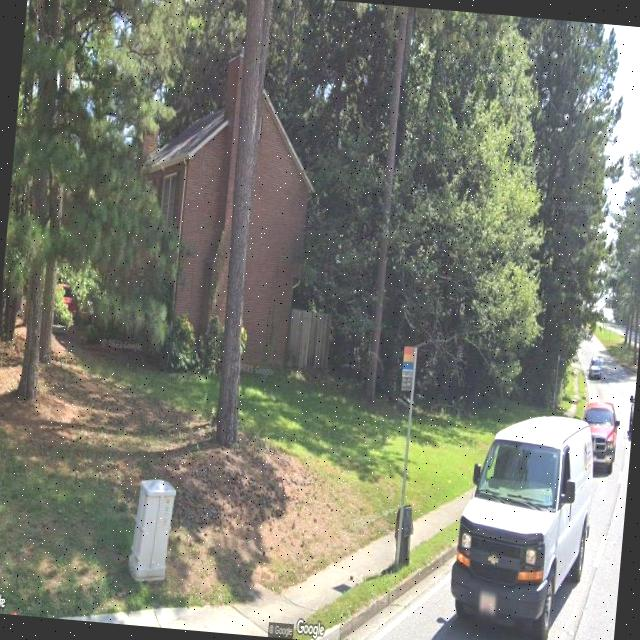trash_can: (392, 502, 415, 564)
